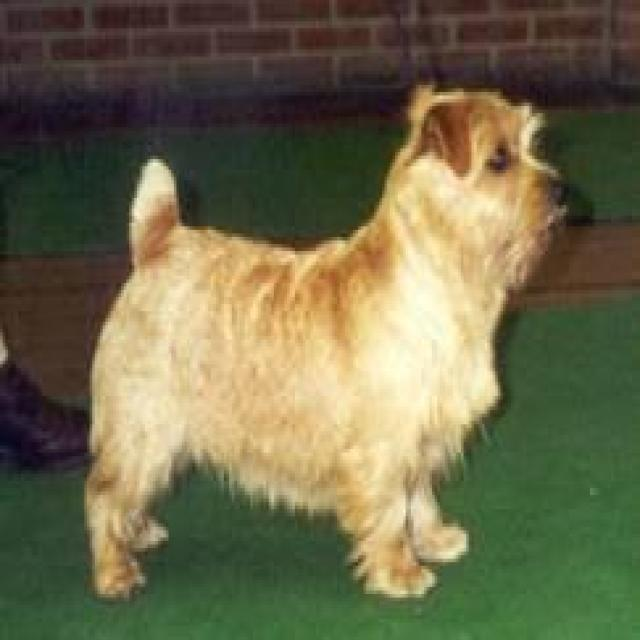dogs: (87, 60, 566, 640)
